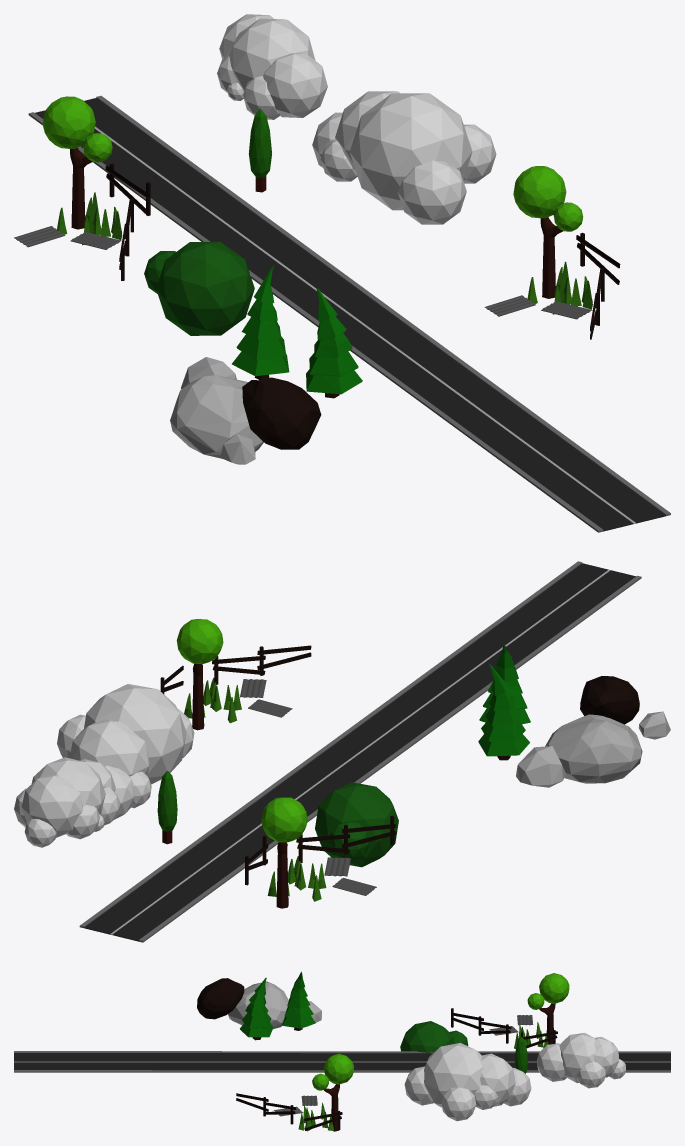
Rendered from main.dae.
3 renders of one model, top to bottom at view 1: azimuth 30°, elevation 25°; view 2: azimuth 150°, elevation 25°; view 3: azimuth 270°, elevation 25°, orthographic. The views are drawn at different scales.
Visible parts, largest first — view 1: Cube_016_002, Cube_016_001, Icosphere_016, Icosphere_025, Sphere, Sphere_001, Icosphere_013, Icosphere_010, Cylinder, Cylinder_001, Icosphere_003, Icosphere_Icosphere_002_001 (+11 smaller); view 2: Cube_016_002, Cube_016_001, Icosphere_016, Sphere, Icosphere_025, Icosphere_017, Cylinder_001, Icosphere_007, Sphere_001, Icosphere_010, Icosphere_Icosphere_002_001, Icosphere_Icosphere_002_002 (+12 smaller); view 3: Cube_016_002, Cube_016_001, Icosphere_016, Sphere_001, Sphere, Icosphere_025, Icosphere_017, Icosphere_010, Cylinder, Cylinder_001, Icosphere_015, Icosphere_003 (+10 smaller).
Boxes of the visible parts, box(x1,y1,x2,y2) form: Cube_016_002: box(312, 305, 670, 532); Cube_016_001: box(28, 95, 386, 322); Icosphere_016: box(349, 93, 472, 210); Icosphere_025: box(156, 241, 254, 335); Sphere: box(170, 375, 263, 458); Sphere_001: box(242, 377, 321, 449); Icosphere_013: box(397, 160, 466, 224); Icosphere_010: box(229, 18, 315, 91); Cylinder: box(306, 288, 362, 398); Cylinder_001: box(232, 265, 289, 379); Icosphere_003: box(263, 53, 327, 117); Icosphere_Icosphere_002_001: box(42, 96, 95, 148); Cube_016_002: box(330, 561, 641, 760); Cube_016_001: box(79, 743, 392, 942); Icosphere_016: box(84, 684, 186, 784); Sphere: box(545, 714, 642, 783); Icosphere_025: box(315, 782, 398, 867); Icosphere_017: box(70, 719, 149, 776); Cylinder_001: box(478, 663, 529, 760); Icosphere_007: box(21, 775, 82, 837); Sphere_001: box(580, 676, 639, 724); Icosphere_010: box(31, 757, 105, 814); Icosphere_Icosphere_002_001: box(261, 797, 307, 842); Icosphere_Icosphere_002_002: box(176, 619, 223, 663); Cube_016_002: box(14, 1051, 341, 1072); Cube_016_001: box(341, 1051, 670, 1072); Icosphere_016: box(424, 1043, 483, 1107); Sphere_001: box(197, 978, 244, 1019); Sphere: box(228, 981, 288, 1029); Icosphere_025: box(400, 1021, 454, 1053); Icosphere_017: box(480, 1053, 515, 1106); Icosphere_010: box(559, 1033, 595, 1082); Cylinder: box(240, 977, 273, 1040); Cylinder_001: box(282, 971, 315, 1030); Icosphere_015: box(441, 1087, 476, 1121); Icosphere_003: box(537, 1043, 566, 1081).
Bounding box in the file's own units: 0.7459 × 1.5 × 0.2427.
